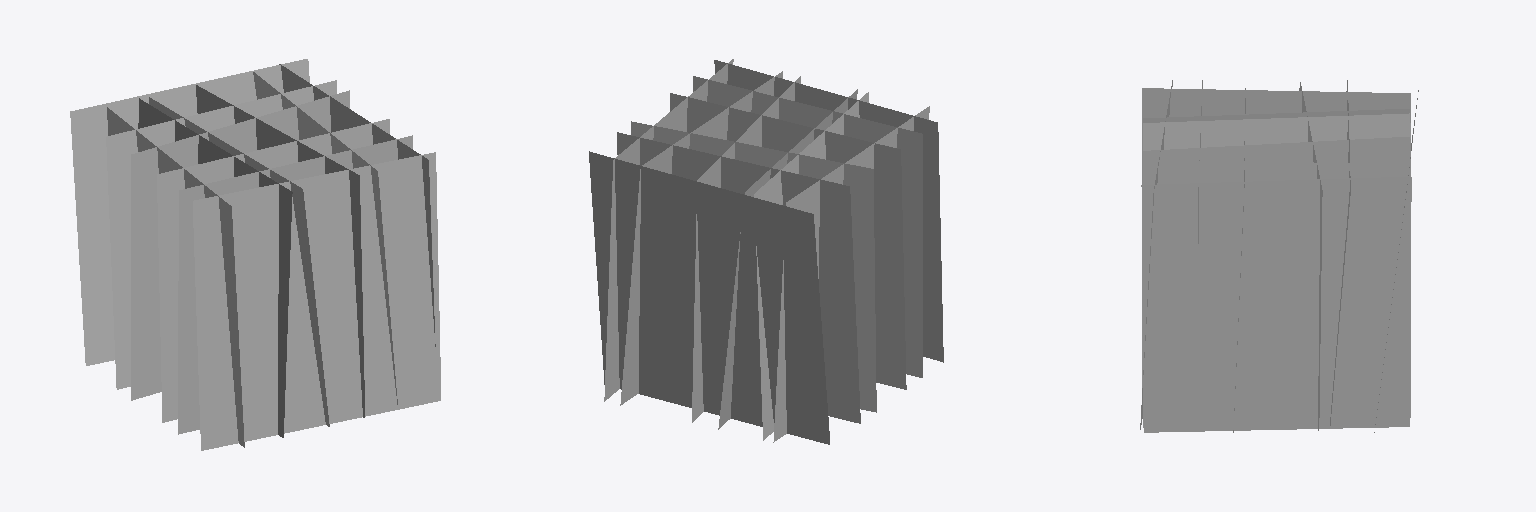
The model's file is volume_dust.obj.
3 renders of one model, left to right at view 1: azimuth 30°, elevation 25°; view 2: azimuth 150°, elevation 25°; view 3: azimuth 270°, elevation 25°, orthographic.
Parts seen in each view (by area): view 1: Cube; view 2: Cube; view 3: Cube.
Part boxes in pixels (x1,y1,x2,y2): Cube: (70,59,440,450); Cube: (589,59,943,444); Cube: (1140,80,1418,432).
Size of the model in its own units: 4.44 by 4.46 by 4.61.